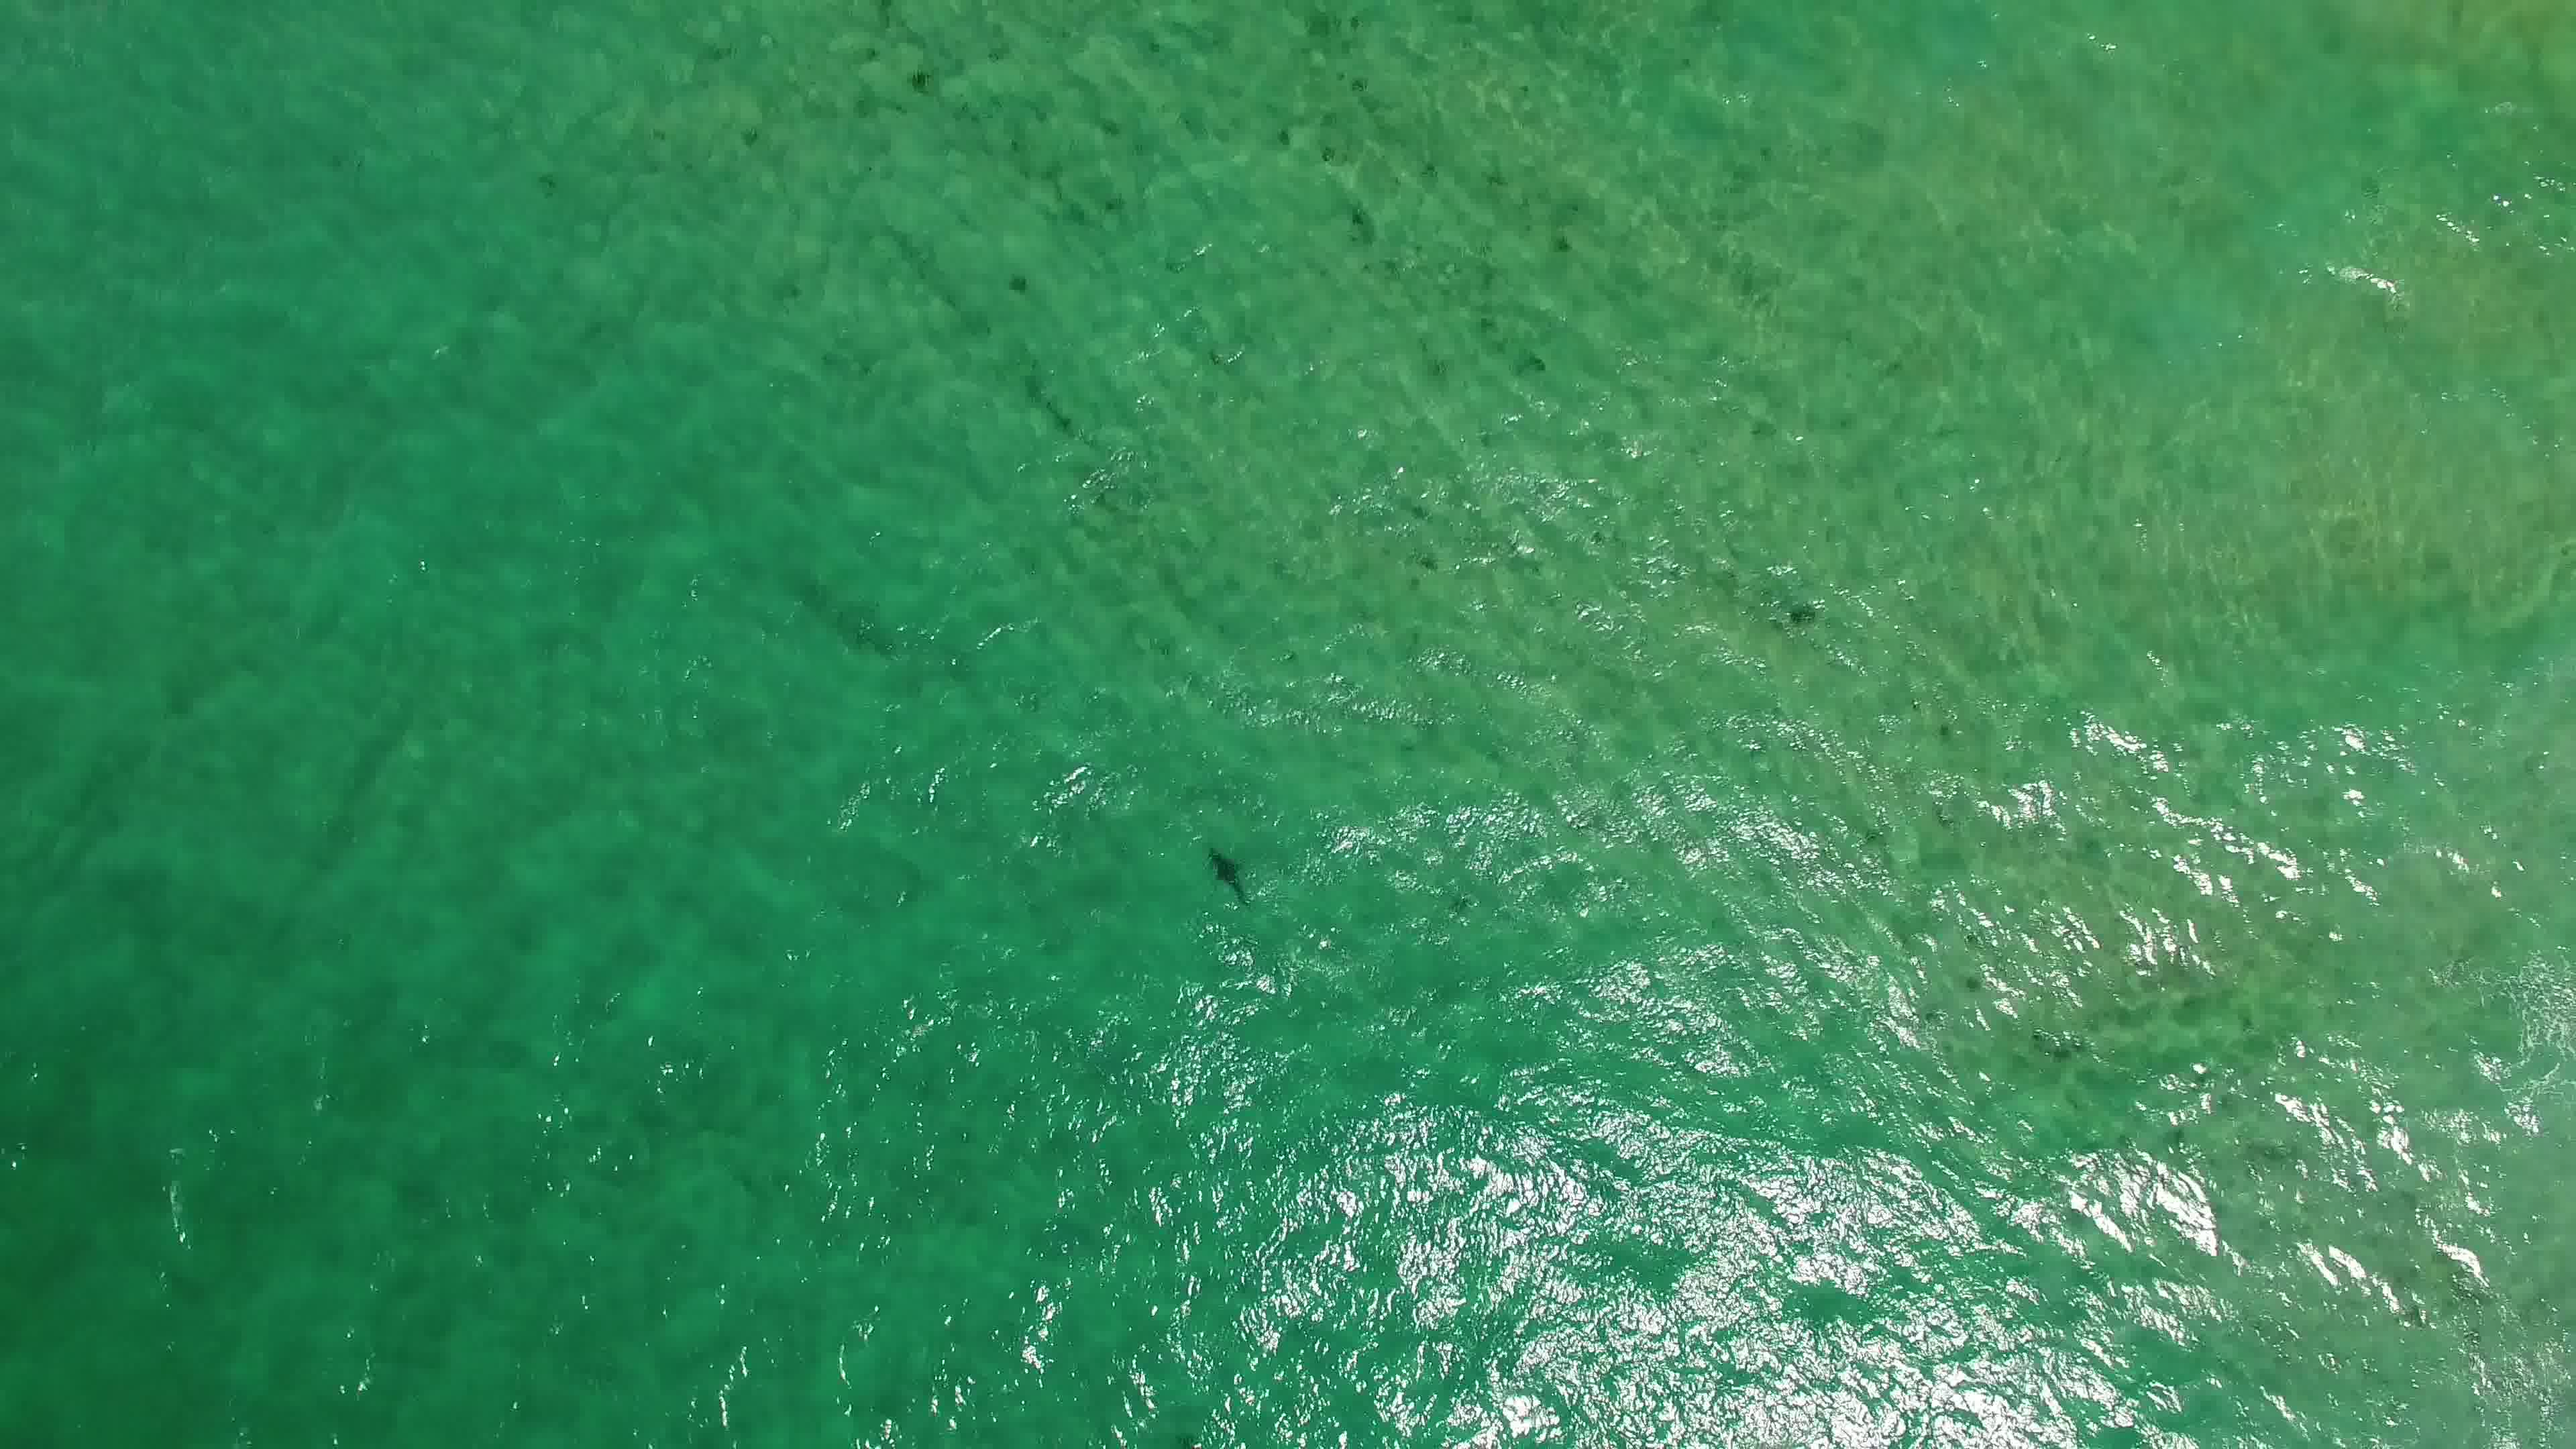shark: (1200, 846, 1263, 913)
